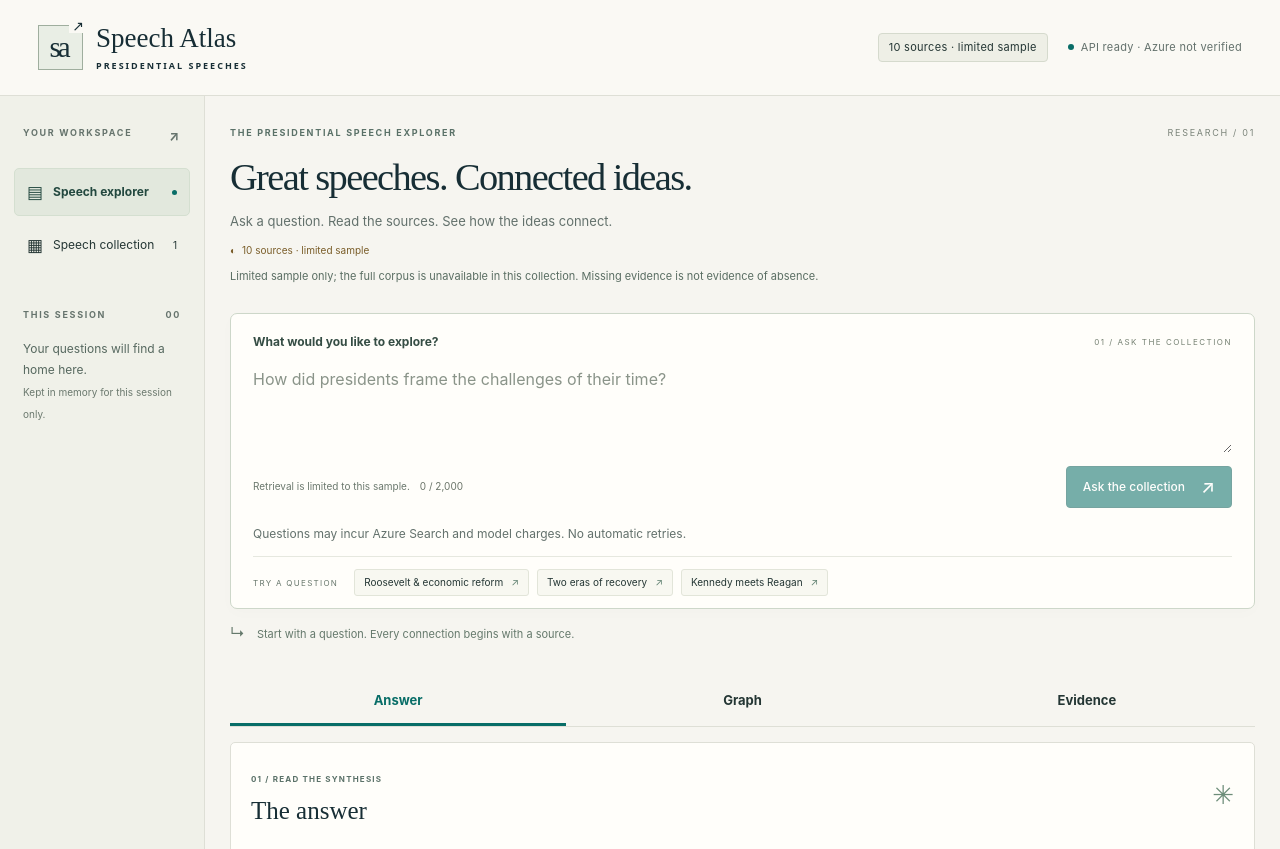
Test: research workspace › shows service configuration failure without inventing a response
Type "How are the test topics connected?" into the text box labelled "What would you like to explore?" at (742, 402), box [253, 352, 1232, 453]
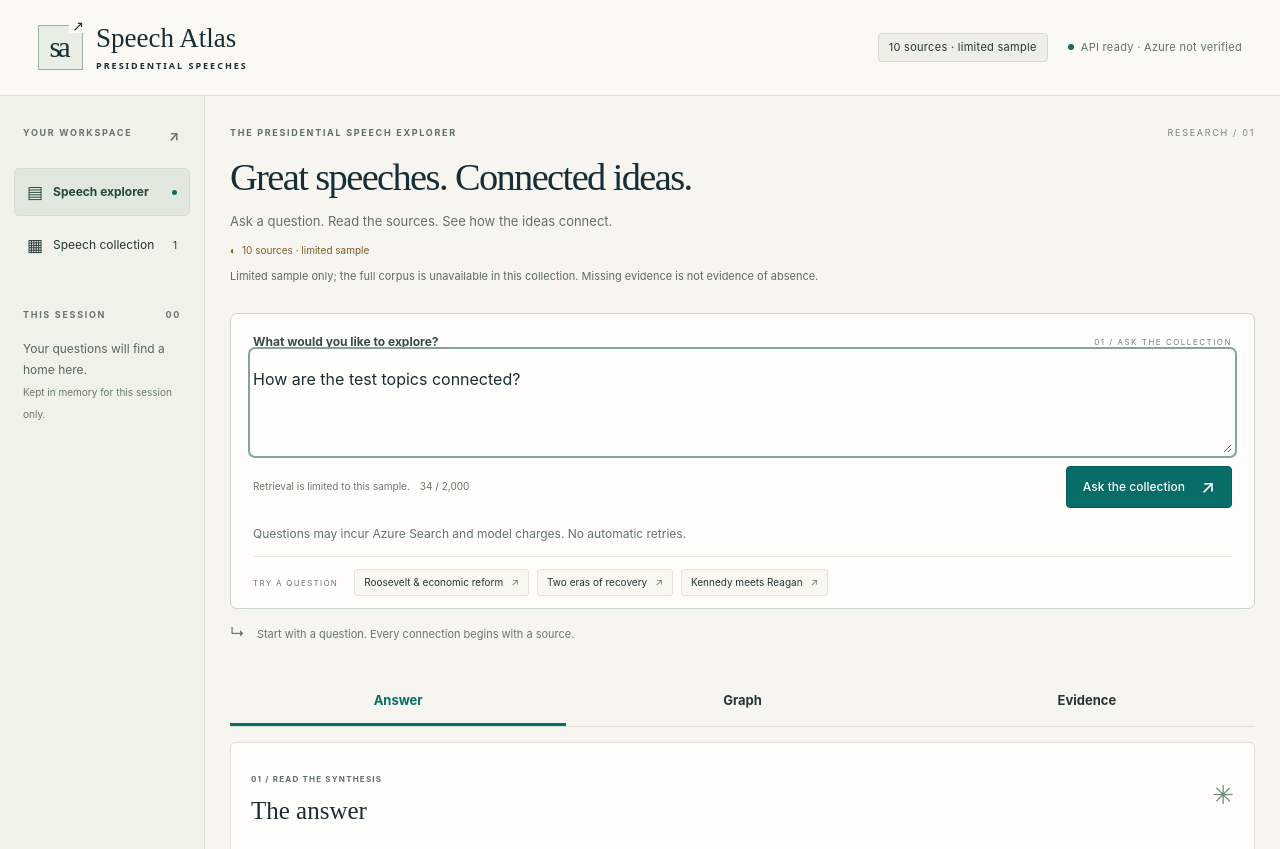
Click the button "Ask the collection ↗" at (1149, 487), box [1066, 466, 1232, 508]
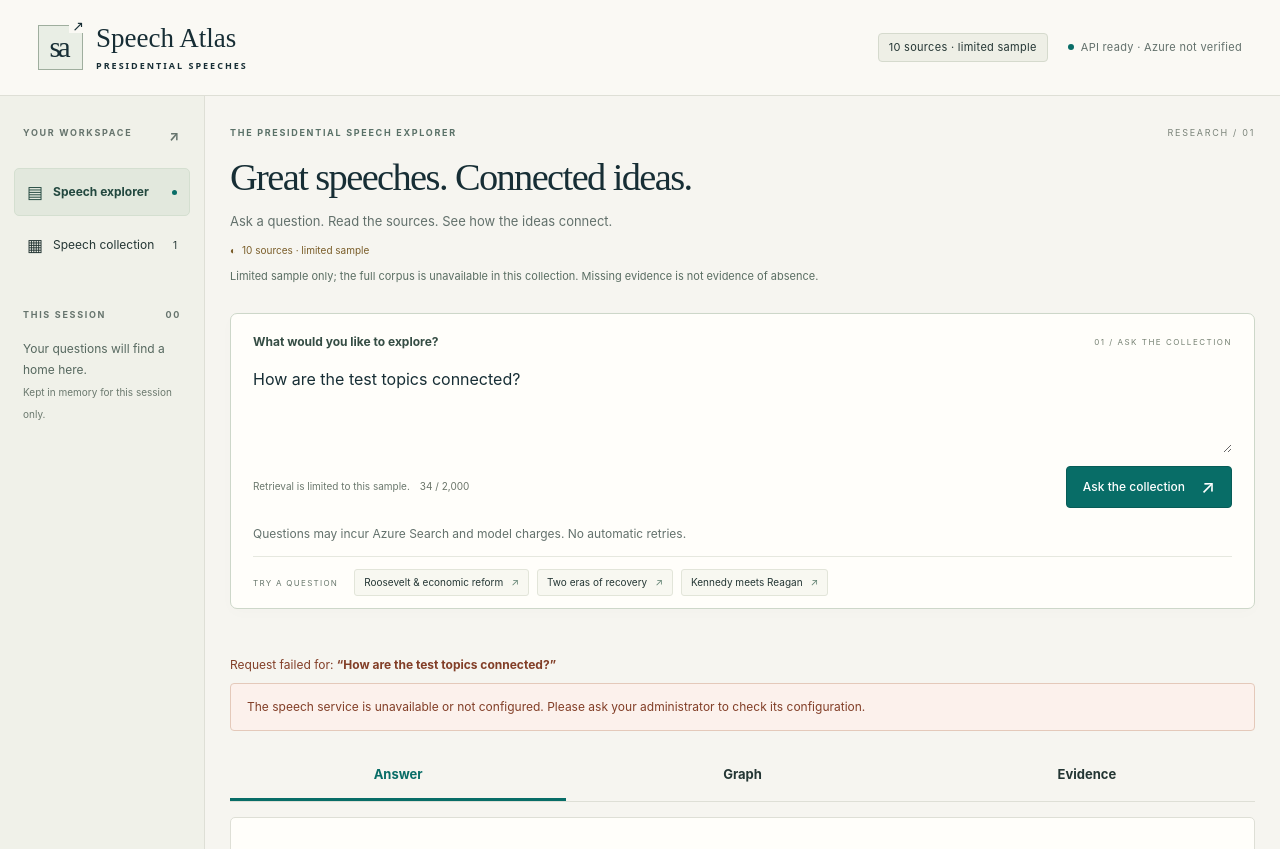
Expected: the 2nd message shows "not configured", [247, 699, 865, 714]
